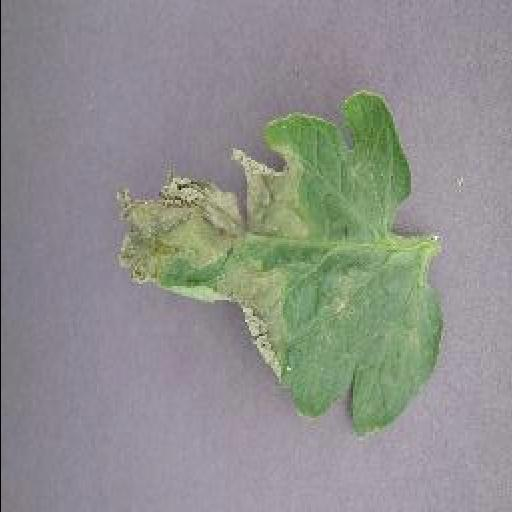disease_tomato: (114, 94, 440, 440)
